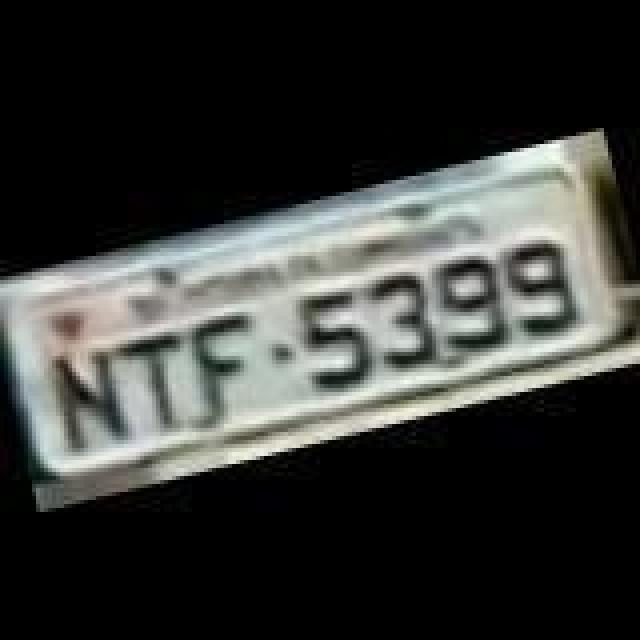3: (356, 262, 444, 378)
5: (288, 278, 376, 394)
9: (494, 230, 586, 346), (430, 248, 514, 360)
F: (190, 306, 274, 422)
N: (44, 342, 132, 450)
T: (112, 330, 200, 438)
